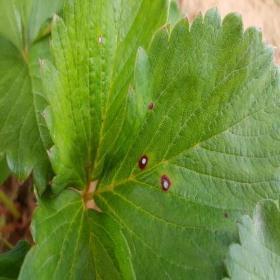Leaf Spot: (92, 6, 279, 279), (38, 0, 171, 199)
